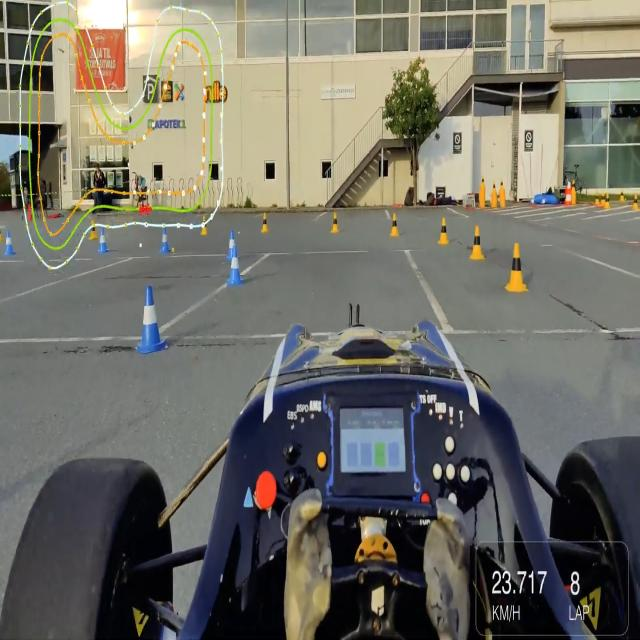blue_cone: (138, 281, 164, 356), (227, 243, 244, 293), (158, 223, 172, 258), (99, 220, 110, 257), (228, 226, 237, 262), (6, 230, 16, 259)
large_orange_cone: (566, 179, 574, 206)
yellow_cone: (508, 233, 527, 303), (470, 218, 484, 265), (387, 206, 401, 242), (437, 213, 451, 245), (327, 208, 342, 236), (259, 205, 271, 234), (201, 215, 209, 237), (90, 218, 98, 240)
